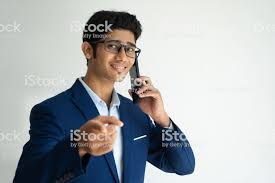Indian_Male: (92, 21, 144, 84)
